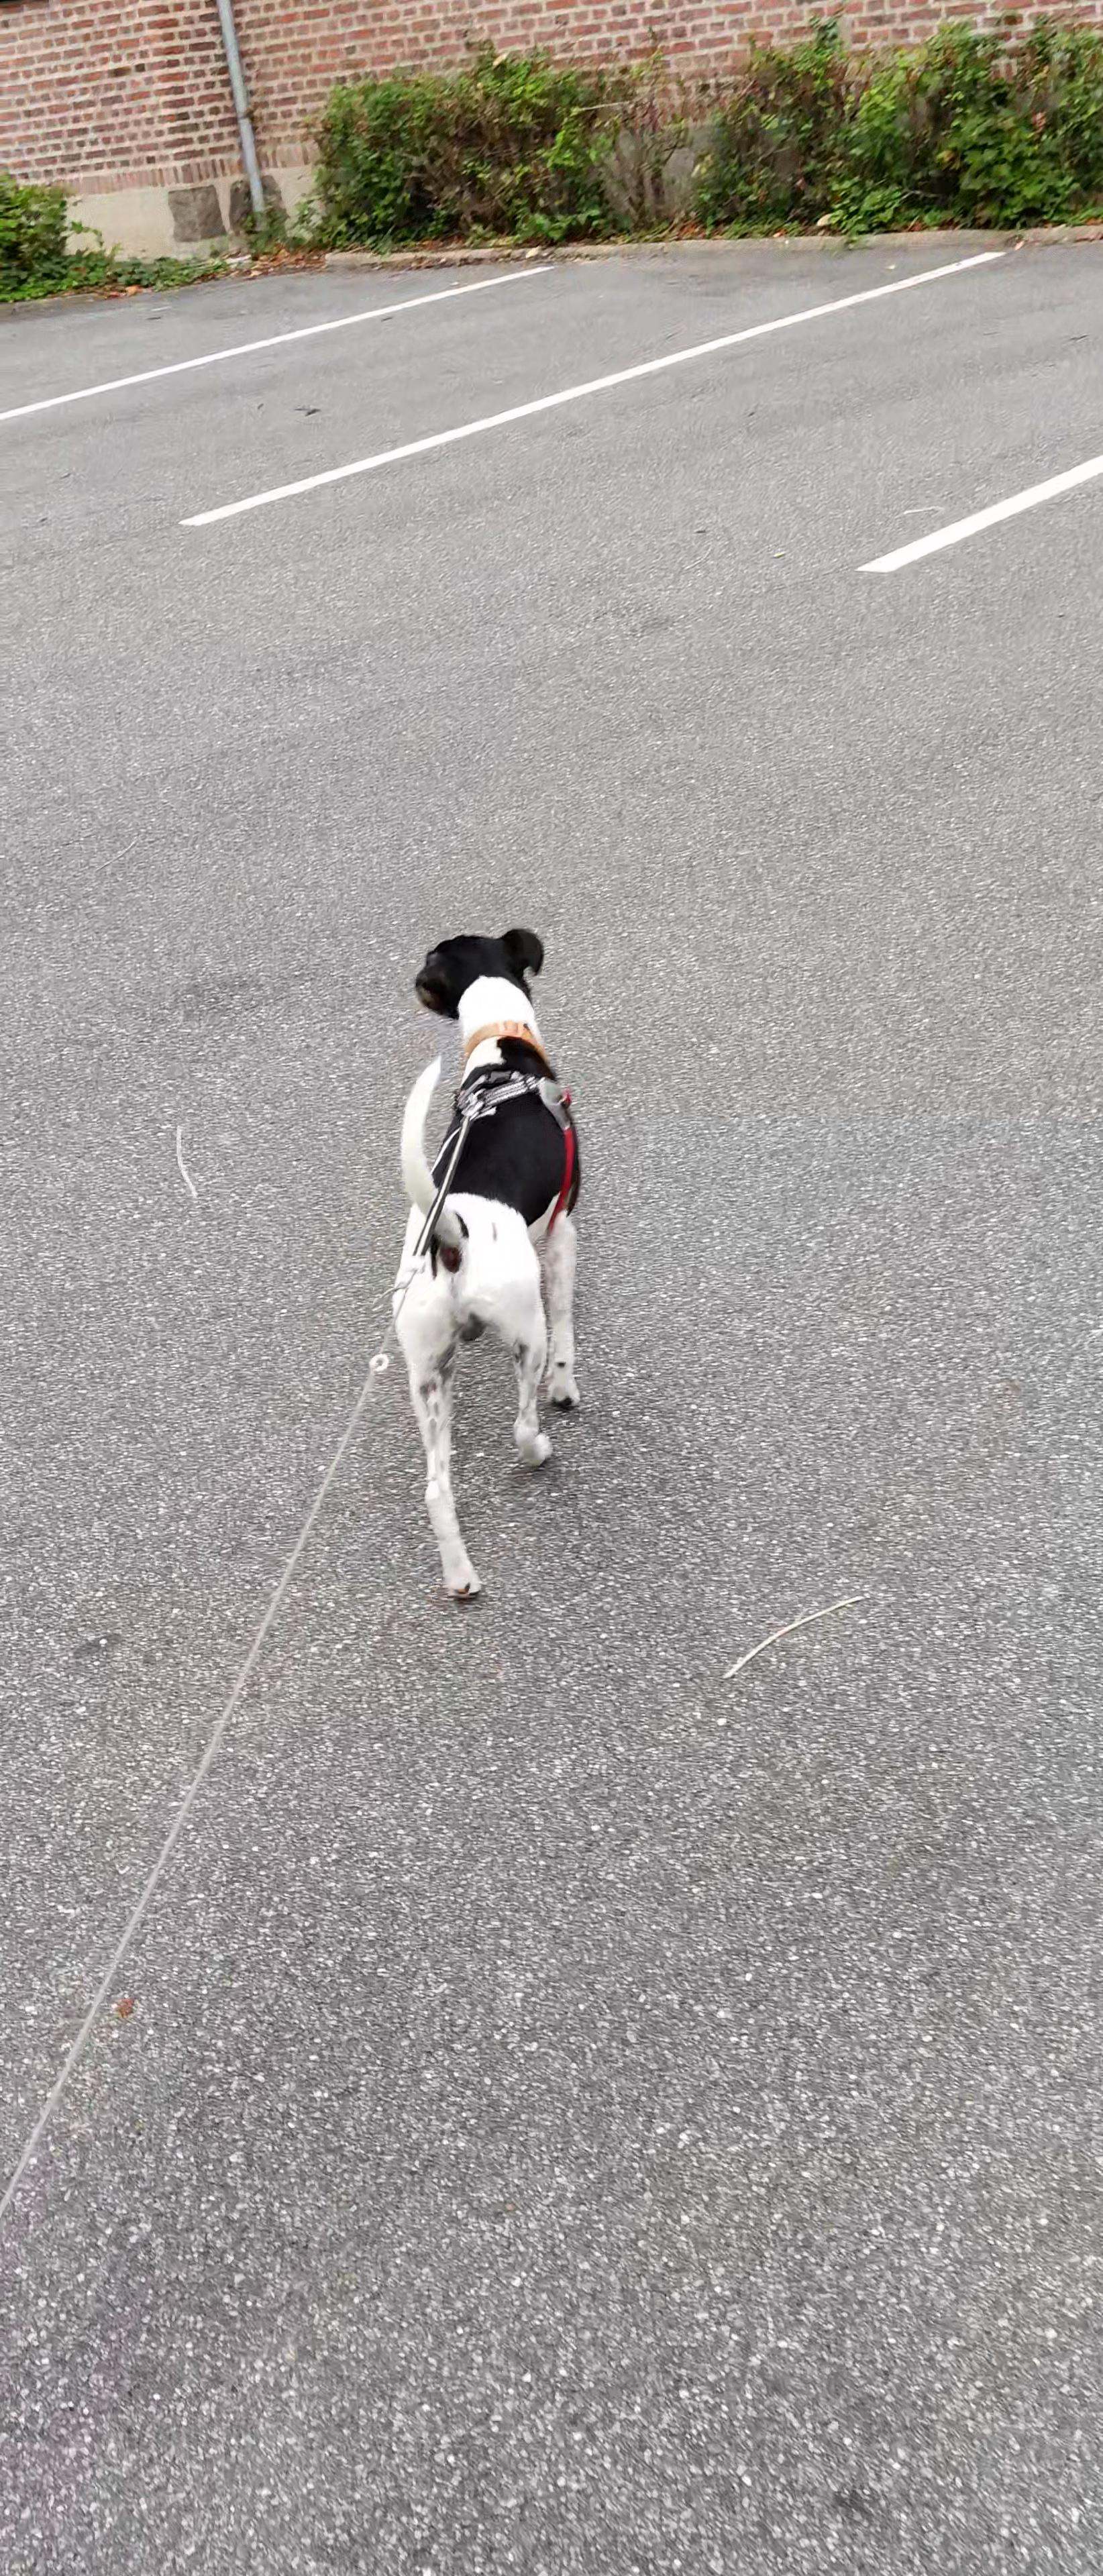Dog: (362, 912, 618, 1615)
